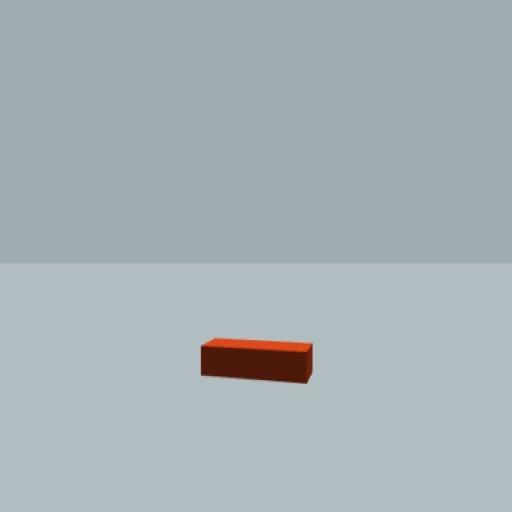debris_container: (199, 336, 314, 388)
